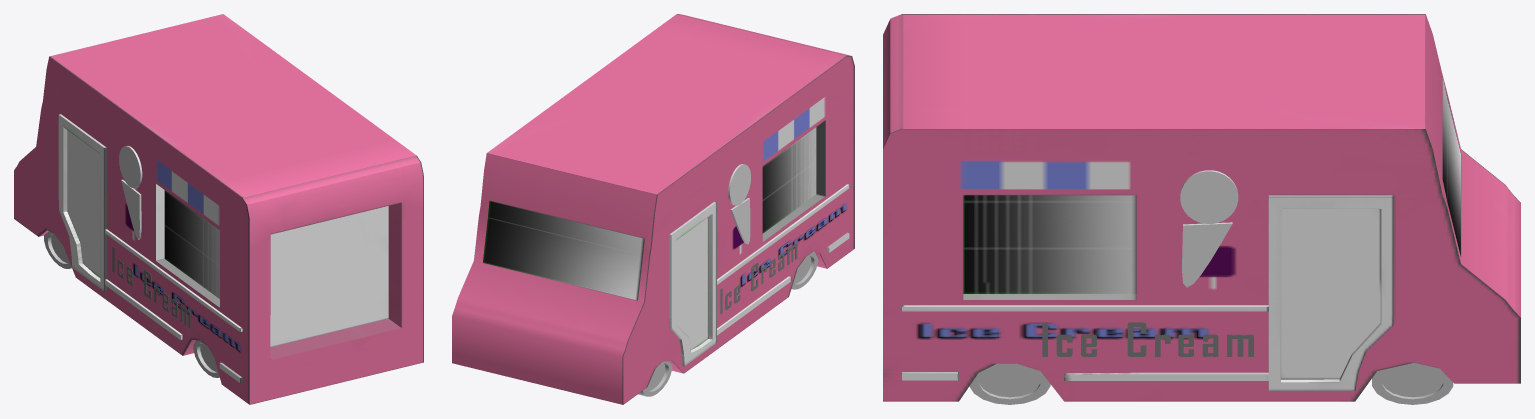
Rendered from IceCreamTruckFinal.FBX.
3 renders of one model, left to right at view 1: azimuth 30°, elevation 25°; view 2: azimuth 150°, elevation 25°; view 3: azimuth 270°, elevation 25°, orthographic. The views are drawn at different scales.
Visible parts, largest first — view 1: truck, Text002, Circle002, Line001, Back_LT_Wheel, Front_LT_Wheel; view 2: truck, Text002, Circle002, Line001, Front_LT_Wheel, Back_LT_Wheel; view 3: truck, Front_RT_Wheel, Text001, Back_RT_Wheel, Circle003, Line002.
Part boxes in pixels (x1,y1,x2,y2): truck: (14,14,423,404); Text002: (112,246,190,328); Circle002: (119,145,142,188); Line001: (121,179,141,239); Back_LT_Wheel: (193,340,219,377); Front_LT_Wheel: (44,231,71,268); truck: (452,14,854,404); Text002: (720,242,797,314); Circle002: (728,164,750,205); Line001: (730,198,750,244); Front_LT_Wheel: (638,361,672,396); Back_LT_Wheel: (791,251,818,289); truck: (883,14,1520,401); Front_RT_Wheel: (1372,363,1453,404); Text001: (1042,322,1253,356); Back_RT_Wheel: (969,363,1050,404); Circle003: (1180,170,1238,223); Line002: (1182,222,1232,287).
Bounding box in the file's own units: 77.8 × 86.2 × 178.
